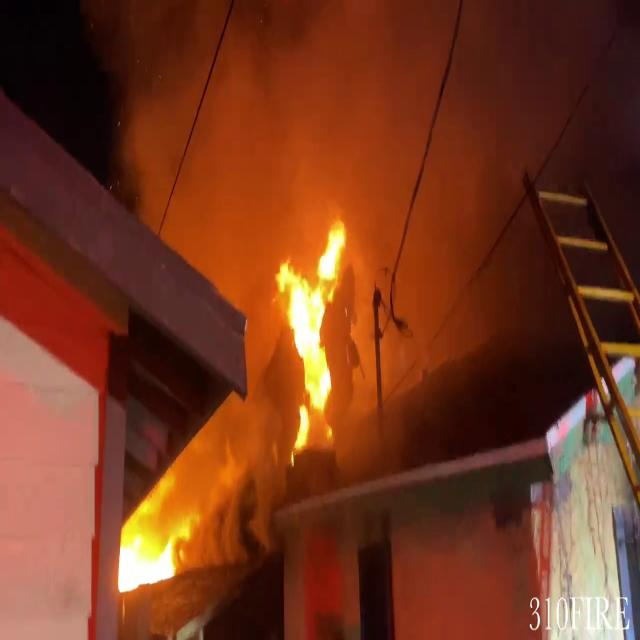Fire: (277, 209, 357, 441), (102, 497, 184, 603)
Smoke: (82, 2, 592, 321)
